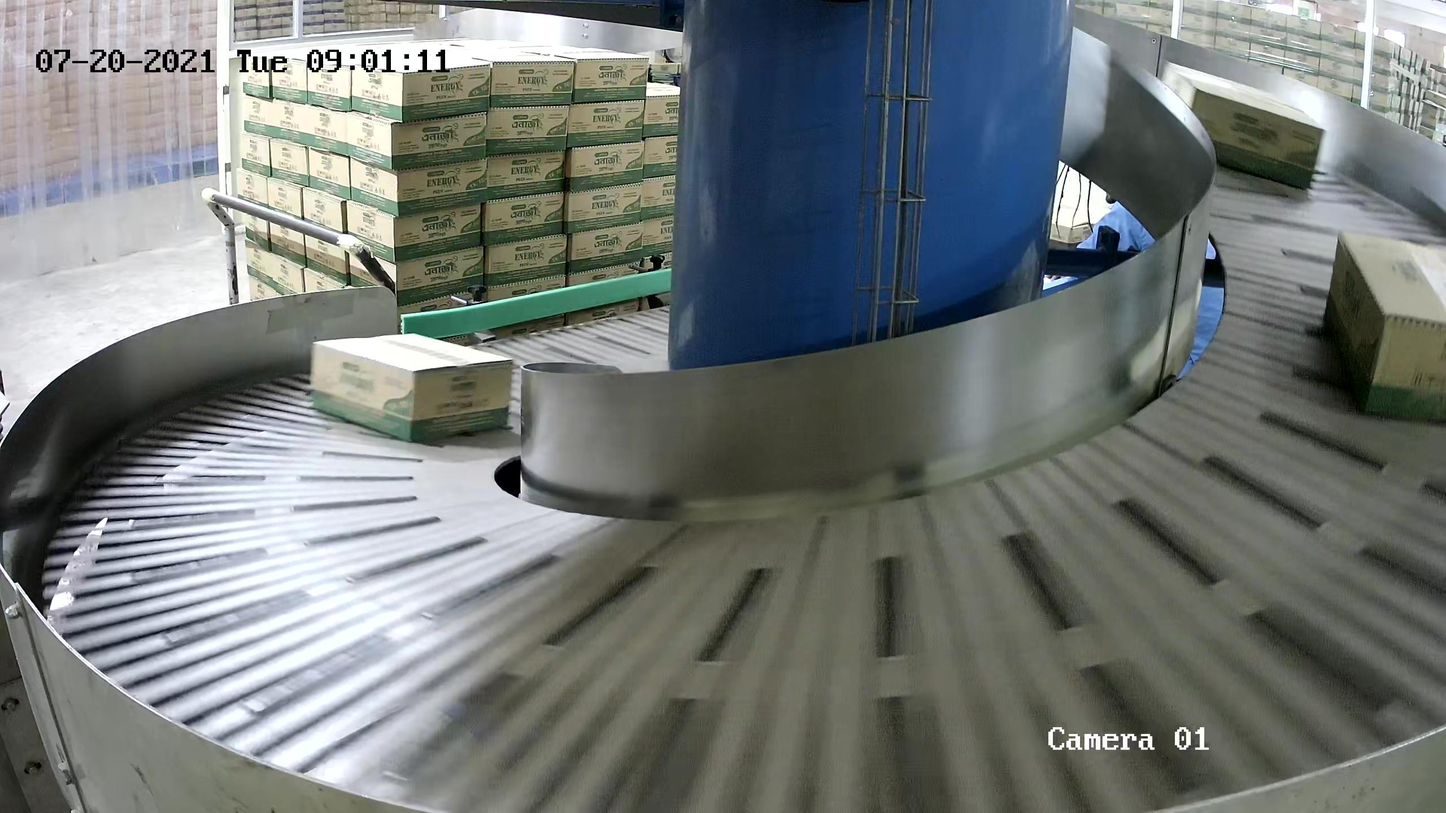Box: (1320, 230, 1446, 427), (307, 332, 516, 447), (1153, 62, 1327, 193)
